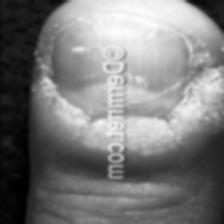Toxin: (164, 50, 224, 153), (37, 64, 75, 132)
